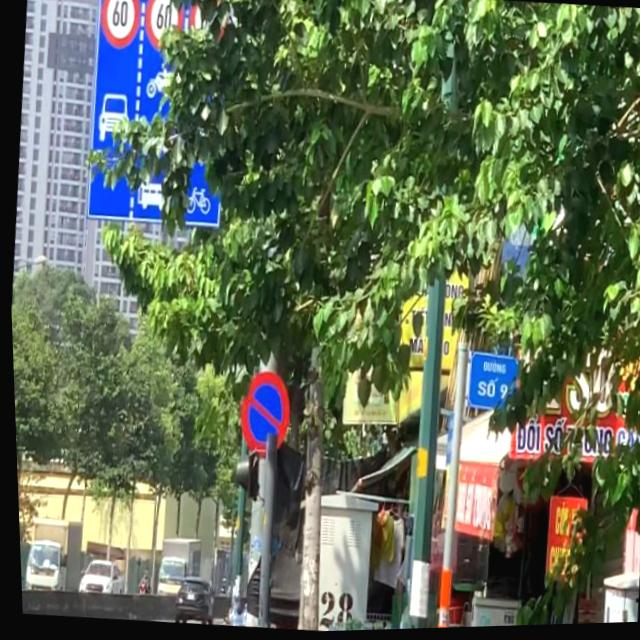Cam do xe: (232, 370, 291, 462)
Toc do toi da cho phep: (140, 0, 187, 54), (97, 0, 144, 52)
